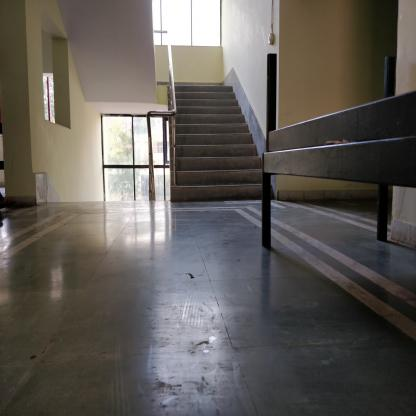stairs: (179, 84, 235, 206)
